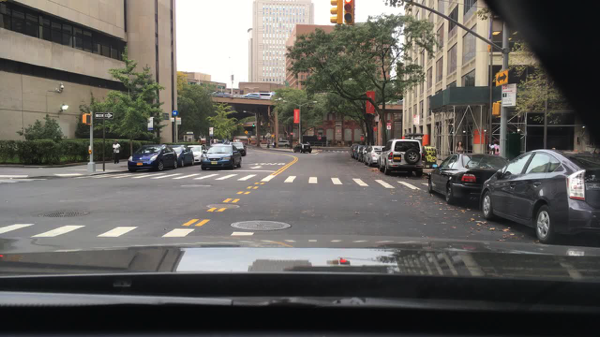car: (477, 148, 599, 245), (427, 154, 507, 204), (378, 138, 424, 178), (127, 144, 177, 173), (201, 143, 242, 171), (169, 145, 195, 167), (363, 145, 385, 166), (188, 144, 207, 163), (292, 142, 312, 154), (228, 141, 245, 154), (348, 141, 359, 158), (359, 144, 369, 162), (353, 145, 364, 160), (270, 140, 290, 146), (242, 92, 262, 98), (211, 89, 227, 96), (259, 91, 272, 98)
person: (111, 140, 122, 164), (454, 141, 466, 155), (487, 141, 498, 154), (492, 149, 499, 154)
traffic light: (329, 1, 342, 25), (343, 0, 352, 26), (491, 100, 500, 116), (81, 113, 90, 125), (251, 121, 255, 128)
traffic sign: (501, 83, 516, 106), (495, 69, 508, 87), (95, 112, 113, 120), (413, 114, 419, 126), (176, 117, 182, 125), (385, 122, 390, 131), (172, 110, 178, 117), (243, 128, 249, 135), (215, 85, 225, 89), (170, 117, 175, 124)
